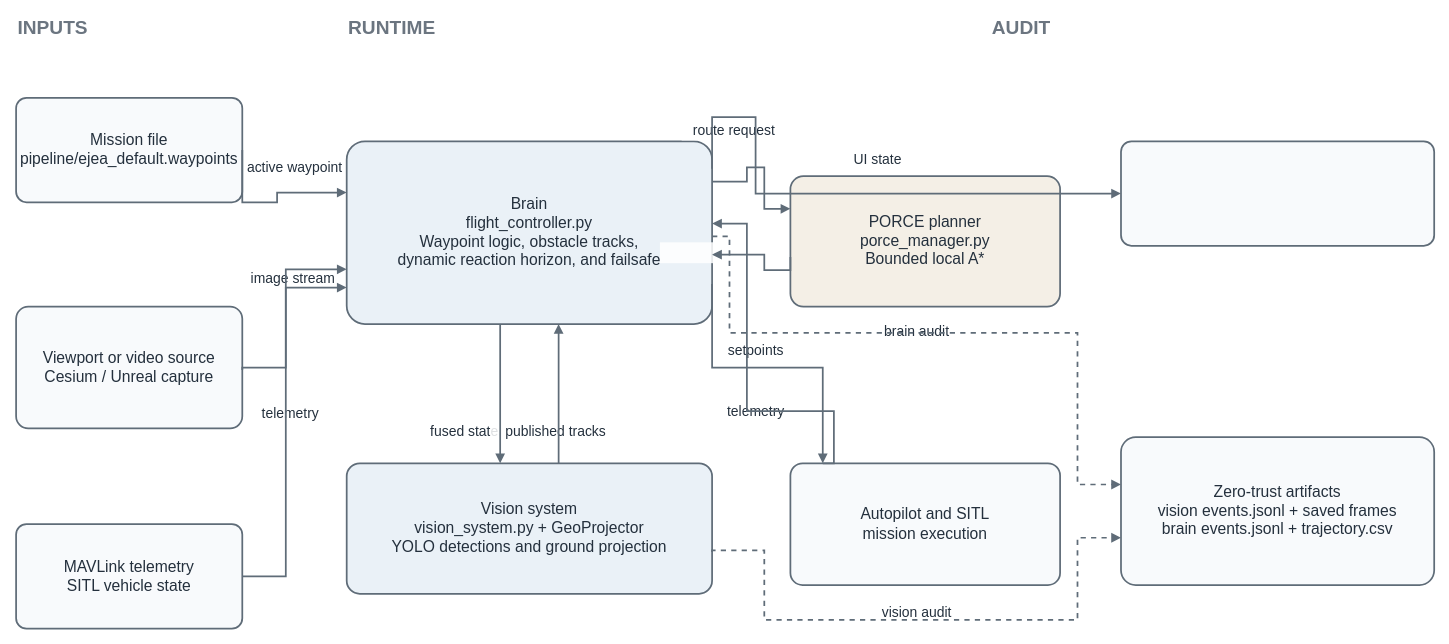
This 1449x644 diagram has some shape labels left out. The shapes that lost their labels are listed below. From the top down, each one's centre as x and y in pixels, then its label:
At pixel 1277 193: "Shared state API /api/state/latest and UI status".
At pixel 707 252: "local route".
